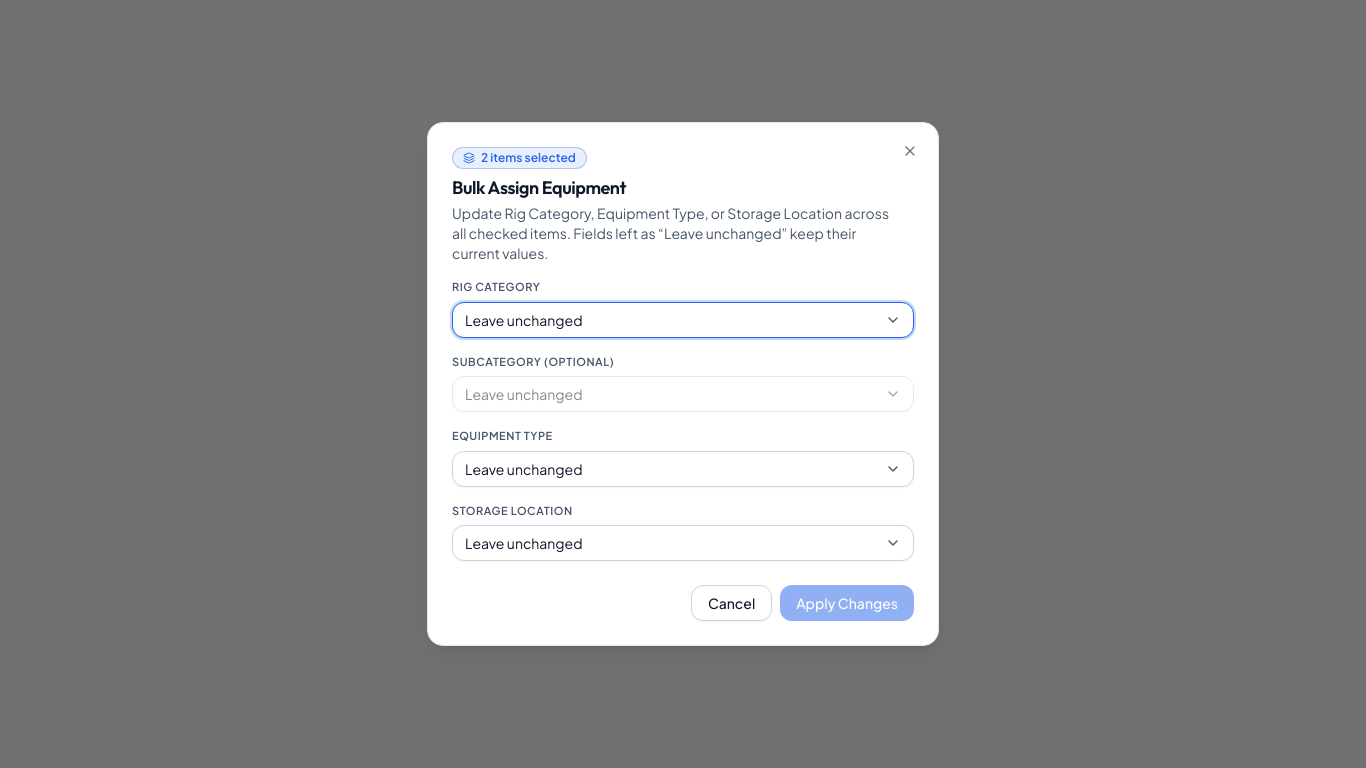
BulkAssignDialog › surfaces inline error without closing or clearing selection when bulkUpdateItems fails
What coordinates should you click on to do the following:
click the dropdown named "storage location"
I would click on:
 (524, 543)
Its box is left=452, top=525, right=914, bottom=561.
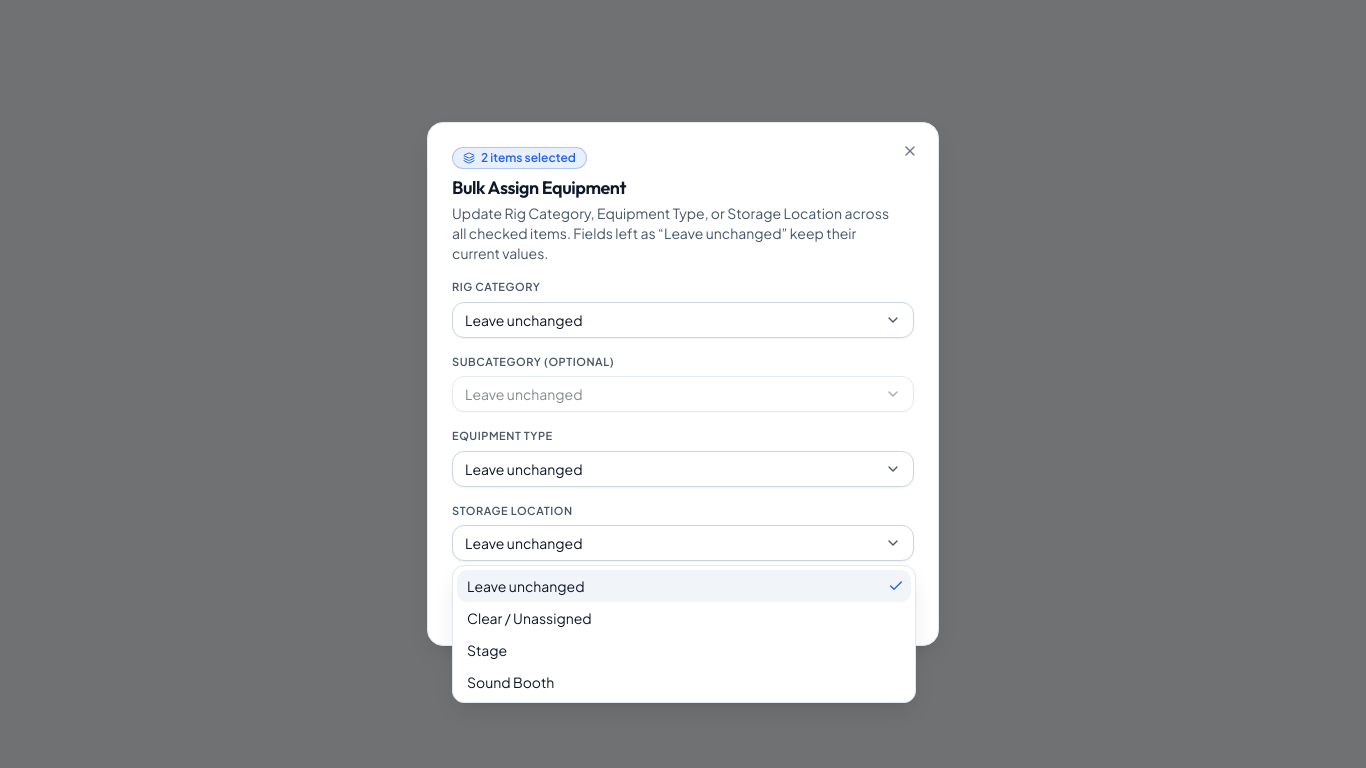
What coordinates should you click on to do the following:
click the option "Stage"
I would click on:
 (487, 650)
Its box is left=467, top=641, right=507, bottom=659.
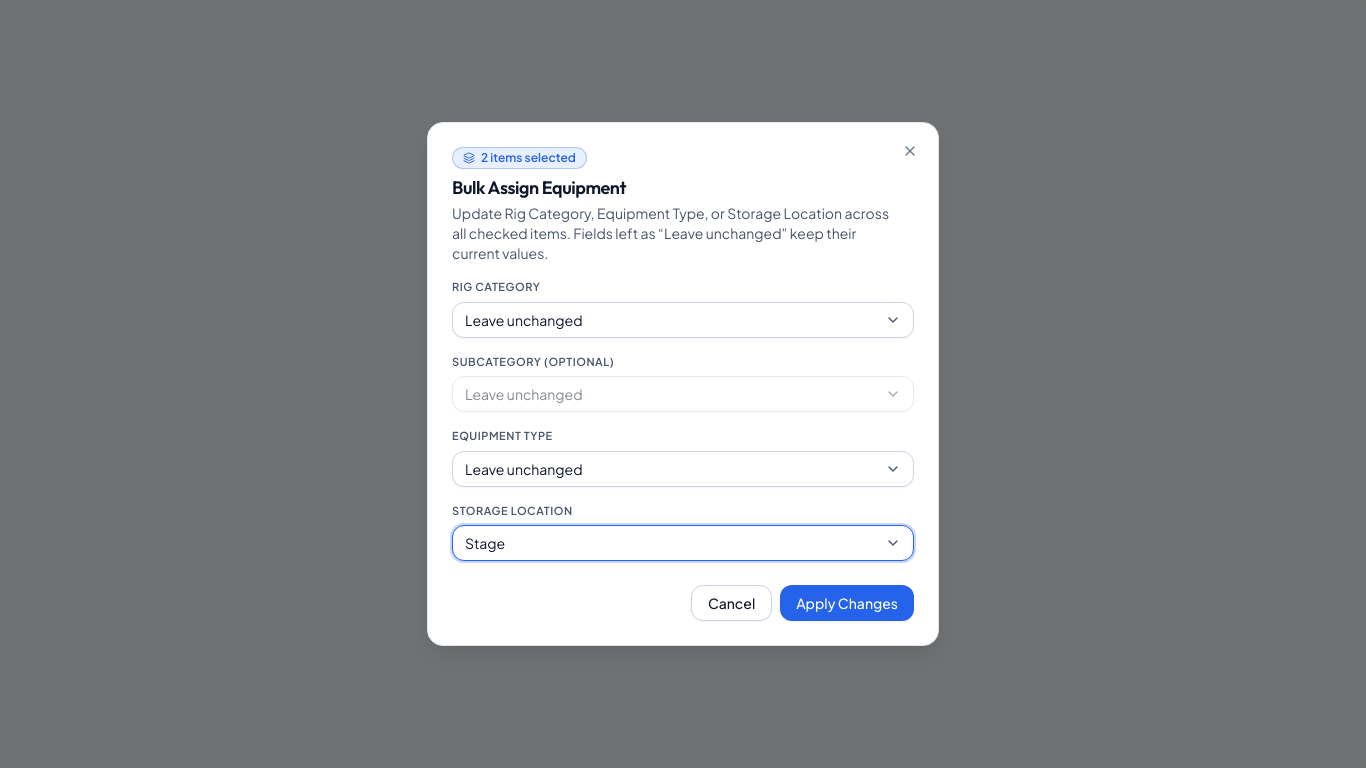
What coordinates should you click on to do the following:
click the button "Apply Changes"
I would click on:
 (847, 603)
Its box is left=780, top=585, right=914, bottom=621.
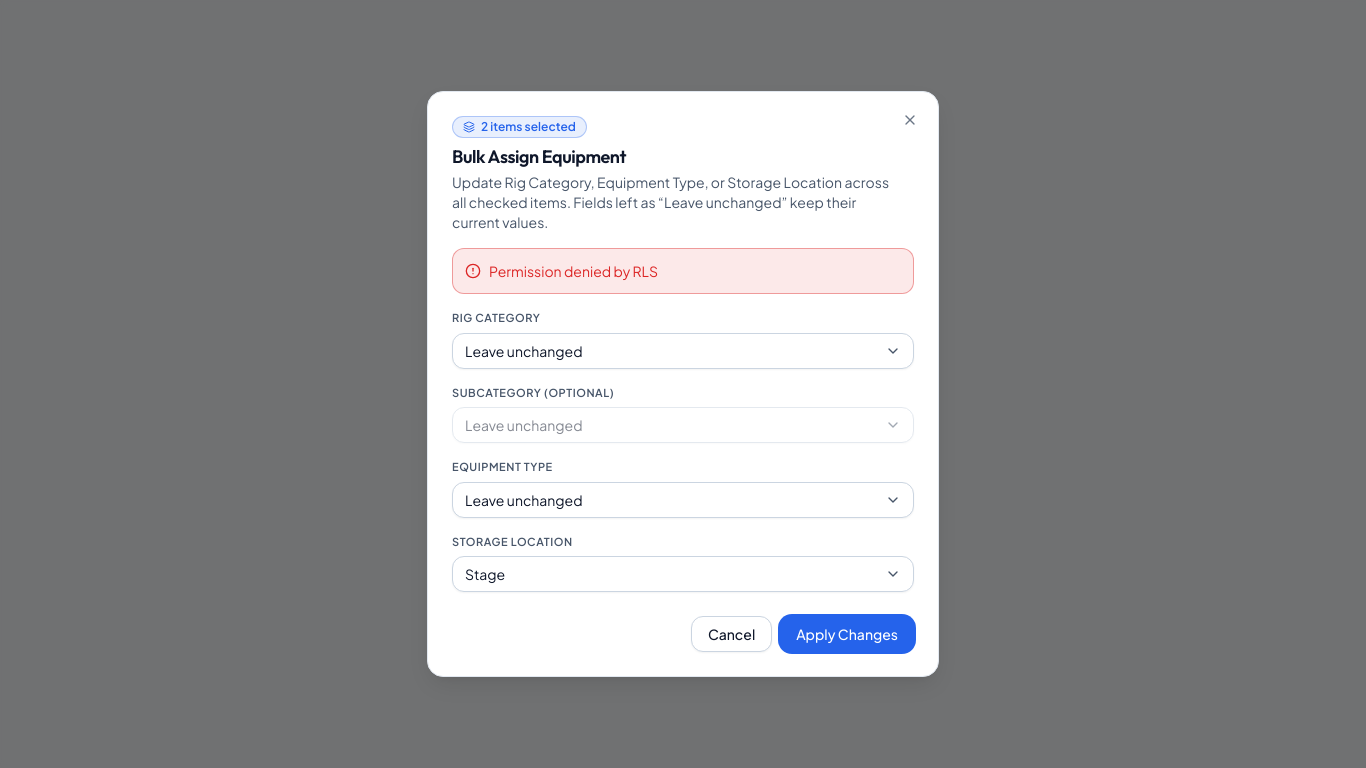
Check: the message reads "Permission denied by RLS", box left=489, top=262, right=658, bottom=280
